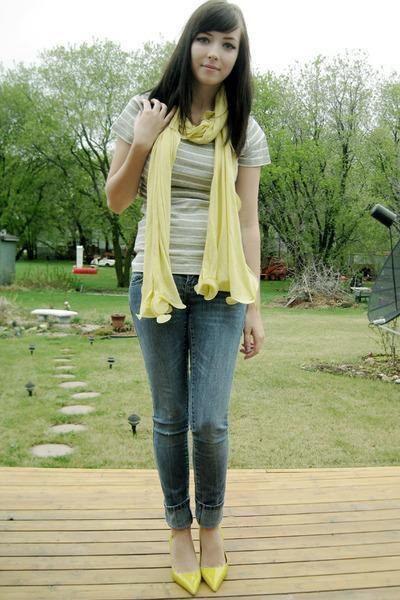pants: (111, 274, 248, 533)
shirt: (110, 94, 270, 278)
shoe: (172, 557, 199, 587)
